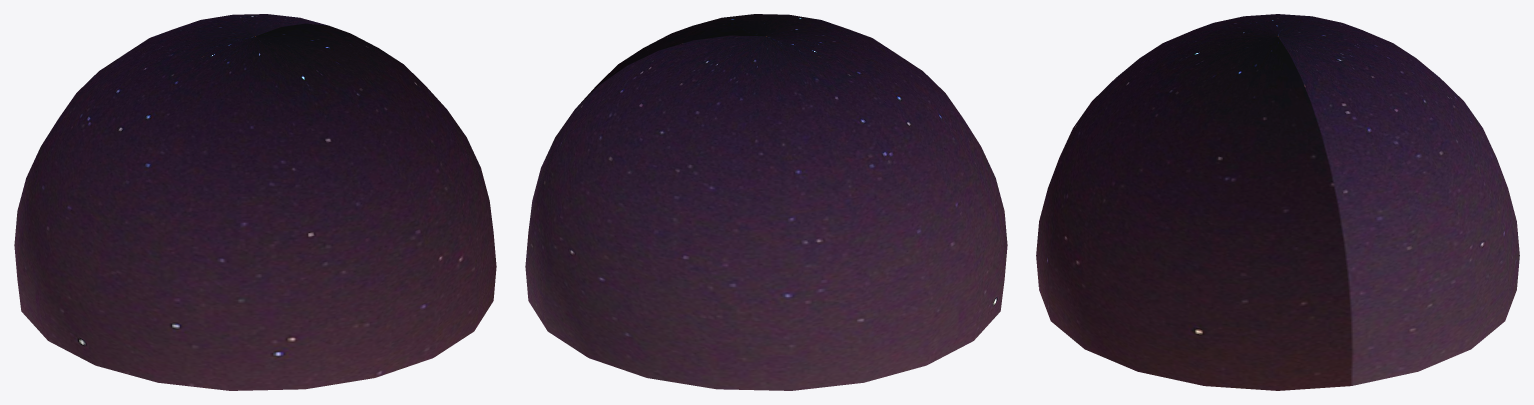
3 renders of one model, left to right at view 1: azimuth 30°, elevation 25°; view 2: azimuth 150°, elevation 25°; view 3: azimuth 270°, elevation 25°, orthographic.
Visible parts, largest first — view 1: sky; view 2: sky; view 3: sky.
Part boxes in pixels (x1,y1,x2,y2): sky: [14, 14, 496, 390]; sky: [525, 14, 1007, 390]; sky: [1036, 14, 1519, 390].
Size of the model in its own units: 1.25 by 0.7218 by 1.25.
4 materials, 4 textured.
